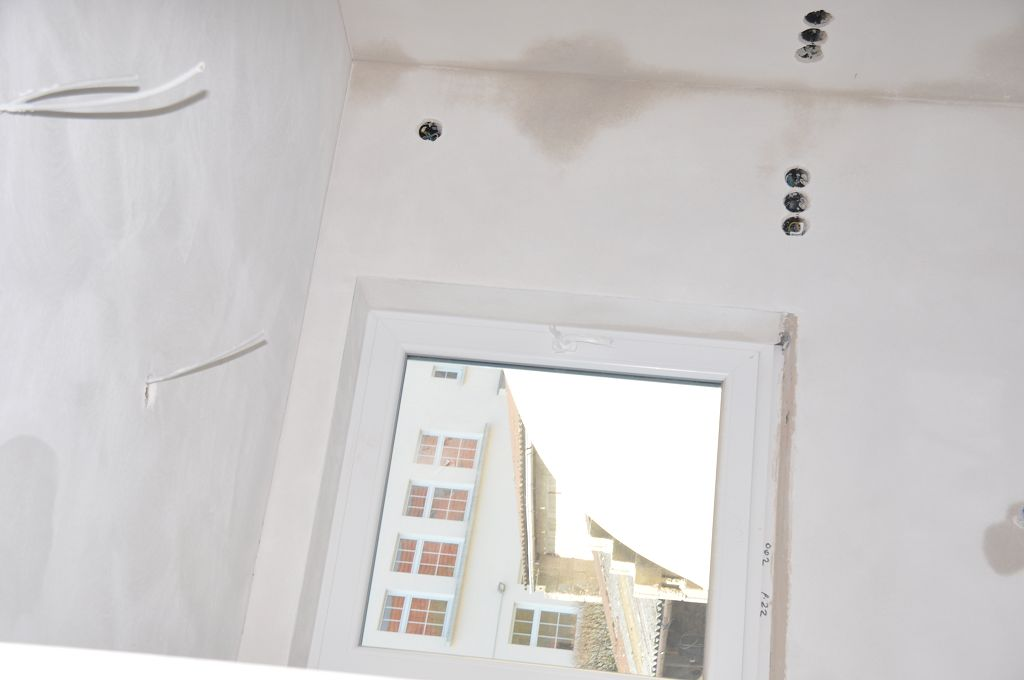windows: (355, 306, 765, 680)
